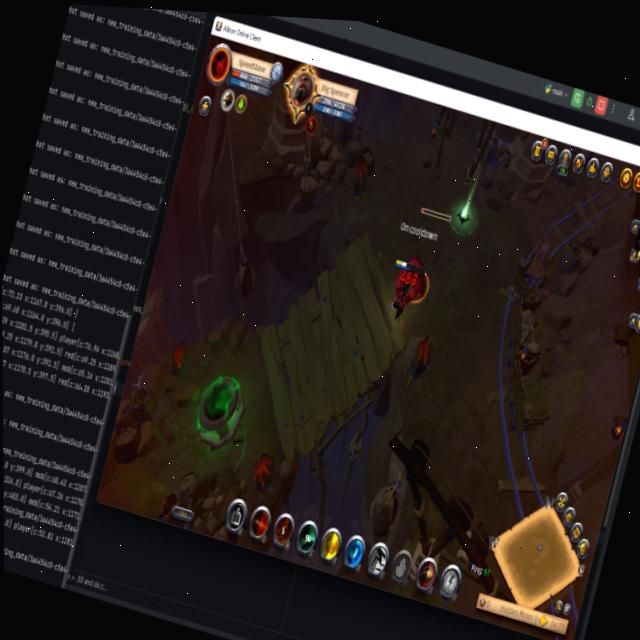ore: (393, 201, 455, 314)
red: (381, 255, 426, 327)
